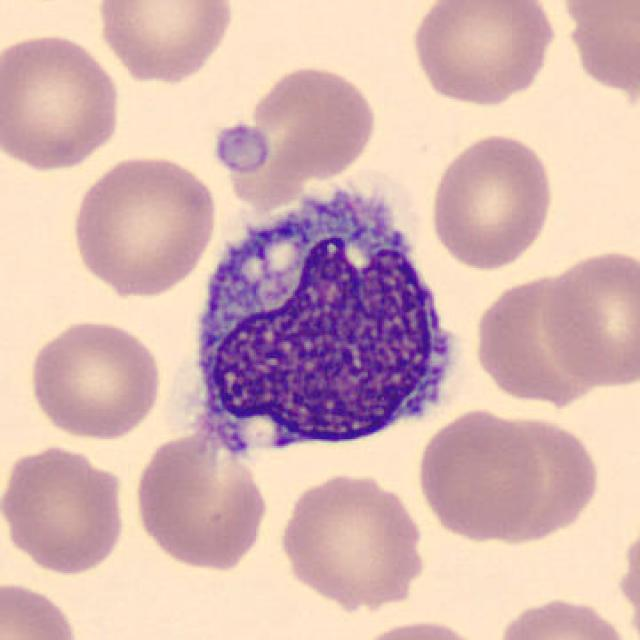Monocyte: (176, 175, 462, 467)
Platelets: (210, 120, 270, 174)
RBC: (274, 467, 430, 612), (68, 150, 220, 298), (130, 426, 272, 574), (233, 60, 382, 194), (468, 276, 612, 411), (425, 128, 558, 272), (412, 405, 546, 545), (0, 28, 126, 175), (25, 316, 165, 444), (0, 441, 130, 576), (407, 0, 558, 108), (537, 245, 638, 390), (92, 0, 238, 85), (547, 0, 640, 106), (490, 592, 634, 640), (0, 578, 84, 640), (345, 615, 492, 640), (613, 516, 639, 640)
